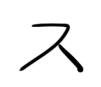su: (15, 20, 85, 76)
